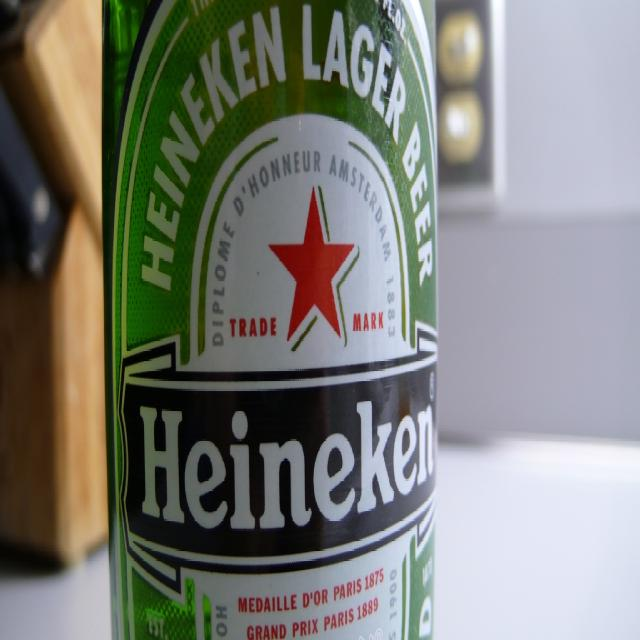heineken: (113, 2, 438, 640)
